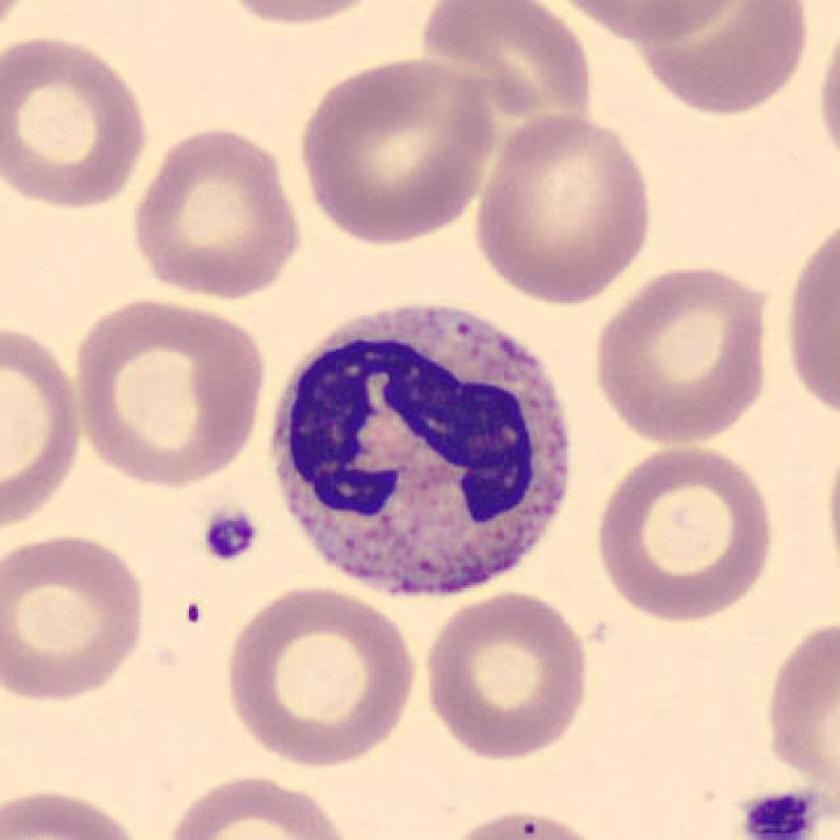neutrophil: (274, 307, 568, 593)
